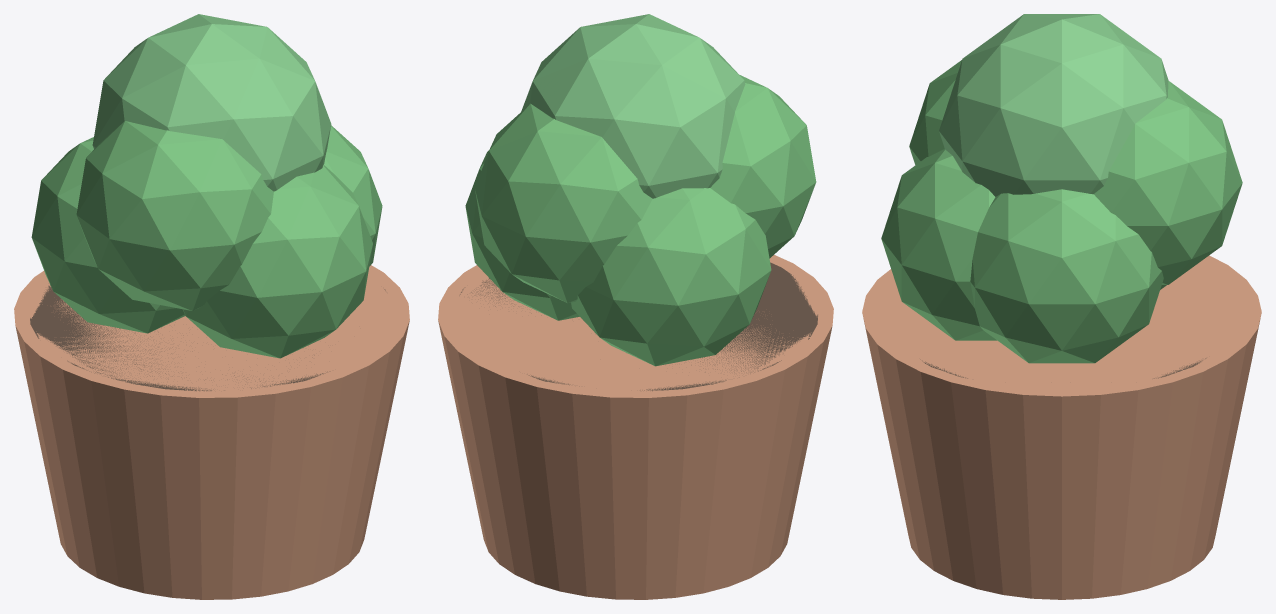
File: cafe_planter.glb
The picture shows the model from 3 angles, left to right: view 1: azimuth 30°, elevation 25°; view 2: azimuth 150°, elevation 25°; view 3: azimuth 270°, elevation 25°; orthographic projection.
Visible parts, largest first — view 1: PlanterPot, Icosphere.003, Icosphere.005, Icosphere.004, Icosphere.002, Soil, Icosphere; view 2: PlanterPot, Icosphere.005, Icosphere.002, Icosphere.001, Icosphere.003, Soil, Icosphere; view 3: PlanterPot, Icosphere.005, Icosphere, Icosphere.001, Icosphere.004, Icosphere.003.
Boxes of the visible parts, x1=… form: PlanterPot: x1=14, y1=265, x2=409, y2=599; Icosphere.003: x1=76, y1=121, x2=273, y2=310; Icosphere.005: x1=92, y1=14, x2=331, y2=191; Icosphere.004: x1=183, y1=164, x2=372, y2=358; Icosphere.002: x1=31, y1=137, x2=185, y2=333; Soil: x1=30, y1=285, x2=385, y2=391; Icosphere: x1=324, y1=125, x2=382, y2=266; PlanterPot: x1=438, y1=255, x2=833, y2=599; Icosphere.005: x1=521, y1=14, x2=745, y2=198; Icosphere.002: x1=571, y1=188, x2=771, y2=366; Icosphere.001: x1=475, y1=103, x2=652, y2=303; Icosphere.003: x1=710, y1=75, x2=816, y2=258; Soil: x1=459, y1=262, x2=817, y2=391; Icosphere: x1=465, y1=150, x2=579, y2=320; PlanterPot: x1=862, y1=255, x2=1261, y2=599; Icosphere.005: x1=939, y1=14, x2=1168, y2=196; Icosphere: x1=970, y1=189, x2=1163, y2=363; Icosphere.001: x1=1094, y1=81, x2=1242, y2=284; Icosphere.004: x1=881, y1=149, x2=996, y2=340; Icosphere.003: x1=909, y1=60, x2=961, y2=164.
Bounding box in the file's own units: 2.6 × 3.7 × 2.6.
